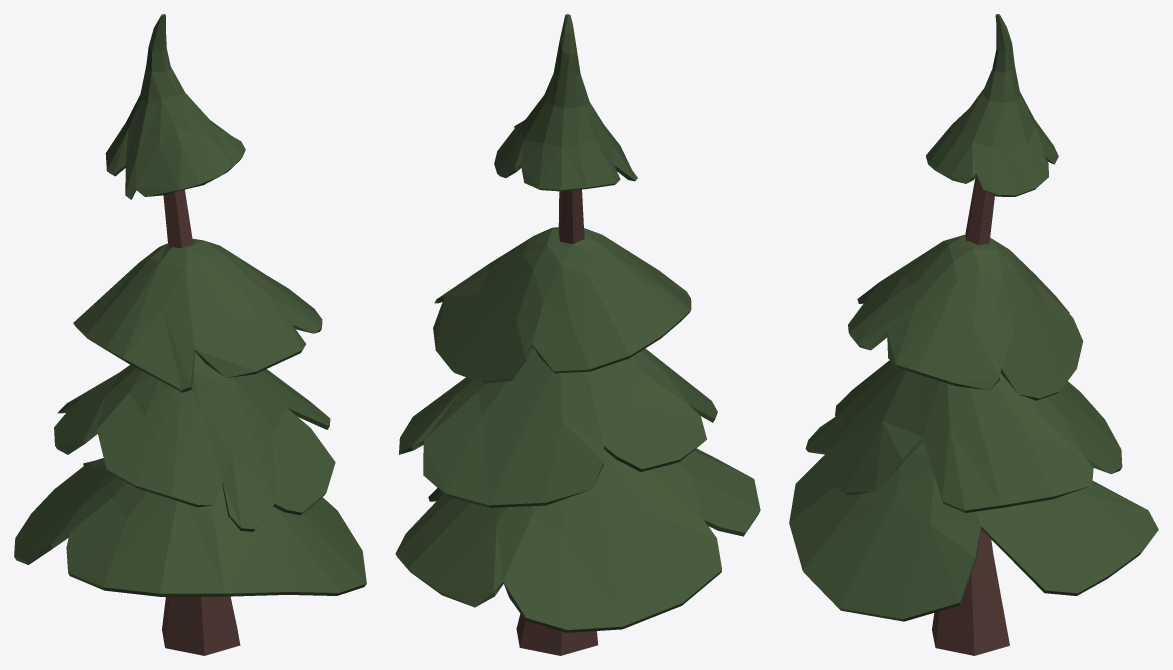
File: PineTree_2.glb
3 views of the same model, side by side, from view 1: azimuth 30°, elevation 25°; view 2: azimuth 150°, elevation 25°; view 3: azimuth 270°, elevation 25° (orthographic). The views are drawn at different scales.
Parts seen in each view (by area): view 1: PineTree_2_Cylinder.024; view 2: PineTree_2_Cylinder.024; view 3: PineTree_2_Cylinder.024.
Boxes of the visible parts, x1=… form: PineTree_2_Cylinder.024: x1=14, y1=14, x2=366, y2=655; PineTree_2_Cylinder.024: x1=395, y1=14, x2=760, y2=655; PineTree_2_Cylinder.024: x1=789, y1=14, x2=1158, y2=655.
Size of the model in its own units: 1.8 by 3.56 by 1.95.
